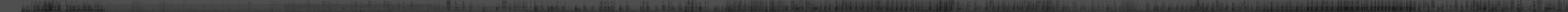Moan: (835, 0, 838, 12), (945, 0, 948, 12), (1306, 0, 1309, 12), (1409, 0, 1412, 12), (850, 0, 852, 12), (929, 0, 931, 12), (939, 0, 941, 12), (1316, 0, 1318, 12), (1321, 0, 1323, 12), (1326, 0, 1328, 12), (1331, 0, 1333, 12), (1337, 0, 1339, 12), (1357, 0, 1359, 12), (1363, 0, 1365, 12), (1366, 0, 1368, 12), (1370, 0, 1372, 12), (1377, 0, 1379, 12), (1381, 0, 1383, 12), (1384, 0, 1386, 12), (1388, 0, 1390, 12), (1400, 0, 1402, 12), (1361, 0, 1362, 12)
